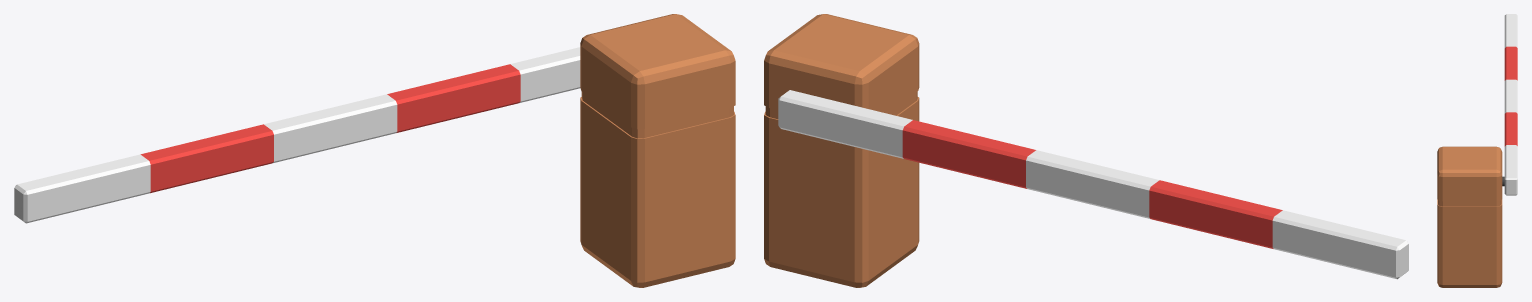
File: Props_ParkingGate.fbx
3 renders of one model, left to right at view 1: azimuth 30°, elevation 25°; view 2: azimuth 150°, elevation 25°; view 3: azimuth 270°, elevation 25°, orthographic. The views are drawn at different scales.
Visible parts, largest first — view 1: Props_ParkingGate; view 2: Props_ParkingGate; view 3: Props_ParkingGate.
Part boxes in pixels (left/top/right/bottom): Props_ParkingGate: left=14, top=14, right=735, bottom=287; Props_ParkingGate: left=764, top=14, right=1408, bottom=287; Props_ParkingGate: left=1437, top=14, right=1517, bottom=287.
Bounding box in the file's own units: 315 × 100 × 61.88.
